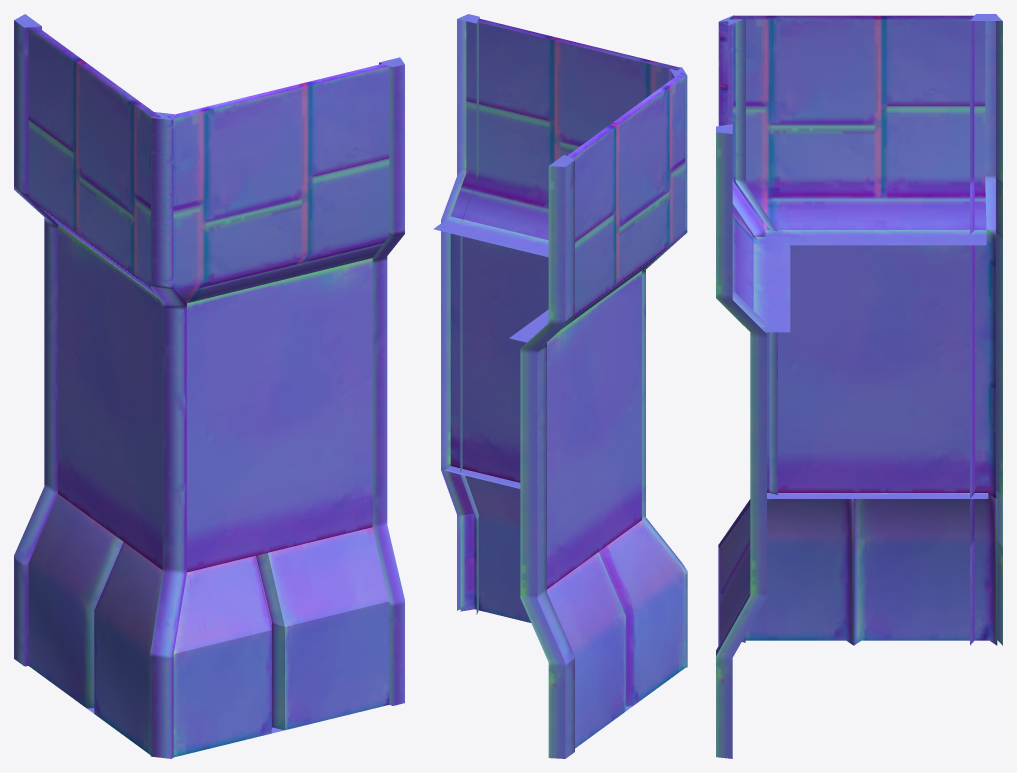
The model's file is Corner_Interior_Convex_200x500_A.fbx.
3 views of the same model, side by side, from view 1: azimuth 30°, elevation 25°; view 2: azimuth 150°, elevation 25°; view 3: azimuth 270°, elevation 25° (orthographic). The views are drawn at different scales.
Visible parts, largest first — view 1: Geom_Corner_Interior_Convex_200x500_A_LOD00; view 2: Geom_Corner_Interior_Convex_200x500_A_LOD00; view 3: Geom_Corner_Interior_Convex_200x500_A_LOD00.
Boxes of the visible parts, x1,y1,x2,y2 form: Geom_Corner_Interior_Convex_200x500_A_LOD00: [14, 14, 404, 758]; Geom_Corner_Interior_Convex_200x500_A_LOD00: [433, 14, 687, 758]; Geom_Corner_Interior_Convex_200x500_A_LOD00: [716, 14, 1002, 758].
Size of what is drawn, in the model's own units: 206 by 500 by 208.
